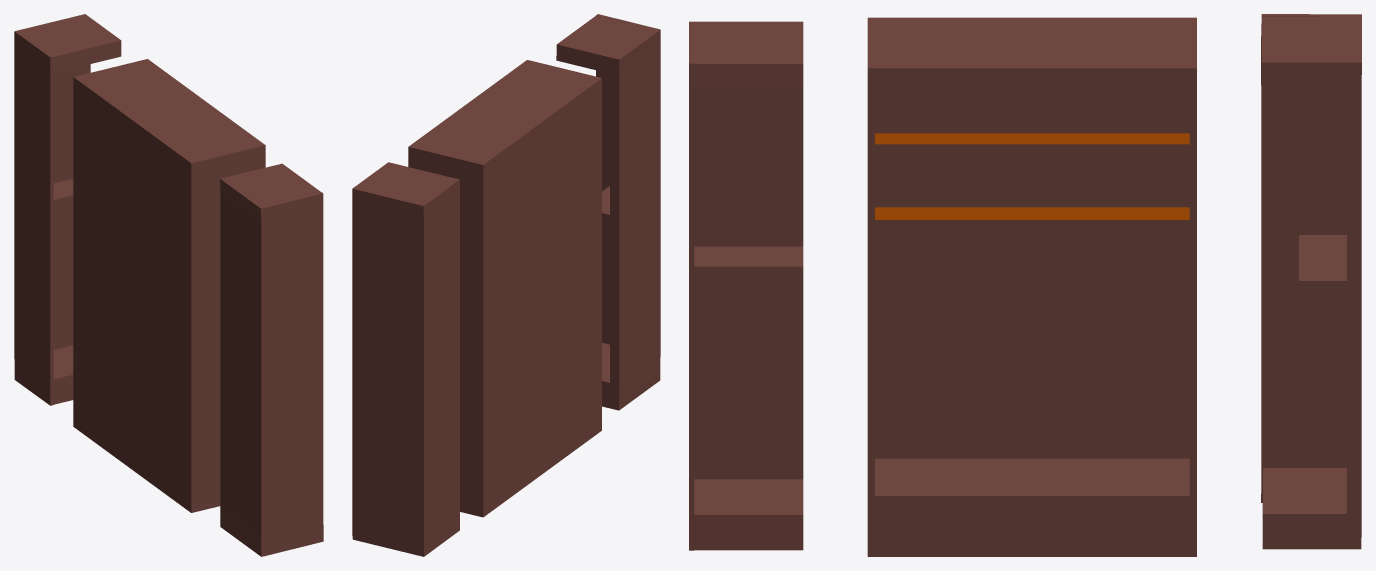
File: John_WeaponCloset.fbx
3 views of the same model, side by side, from view 1: azimuth 30°, elevation 25°; view 2: azimuth 150°, elevation 25°; view 3: azimuth 270°, elevation 25° (orthographic). The views are drawn at different scales.
Visible parts, largest first — view 1: Weapon Closet; view 2: Weapon Closet; view 3: Weapon Closet.
Part boxes in pixels (x1,y1,x2,y2): Weapon Closet: [14, 14, 323, 556]; Weapon Closet: [352, 14, 660, 556]; Weapon Closet: [689, 14, 1361, 556].
Bounding box in the file's own units: 3200 × 14511 × 17976.
